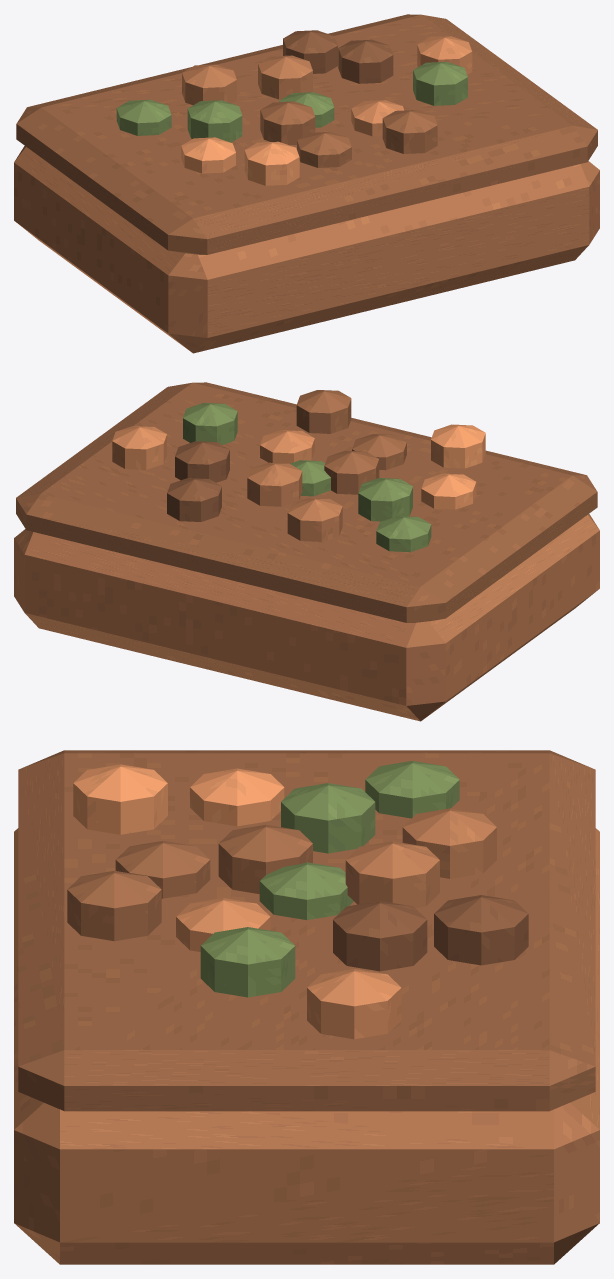
File: lazy_lobster_casserole.glb
3 renders of one model, top to bottom at view 1: azimuth 30°, elevation 25°; view 2: azimuth 150°, elevation 25°; view 3: azimuth 270°, elevation 25°, orthographic. The views are drawn at different scales.
Parts seen in each view (by area): view 1: block_browned baked crust, block_cut casserole portion, block_pieces in cooked dish (×15); view 2: block_browned baked crust, block_cut casserole portion, block_pieces in cooked dish (×15); view 3: block_browned baked crust, block_cut casserole portion, block_pieces in cooked dish (×15).
Part boxes in pixels (x1=…): block_browned baked crust: x1=16, y1=14, x2=597, y2=254; block_cut casserole portion: x1=14, y1=146, x2=599, y2=353; block_pieces in cooked dish (×15): x1=116, y1=30, x2=472, y2=185; block_browned baked crust: x1=16, y1=382, x2=597, y2=622; block_cut casserole portion: x1=14, y1=514, x2=599, y2=721; block_pieces in cooked dish (×15): x1=112, y1=390, x2=485, y2=552; block_browned baked crust: x1=18, y1=750, x2=595, y2=1111; block_cut casserole portion: x1=14, y1=828, x2=599, y2=1264; block_pieces in cooked dish (×15): x1=67, y1=761, x2=528, y2=1039.
Size of the model in its own units: 0.1203 by 0.046 by 0.0884.
1 material, 1 textured.
